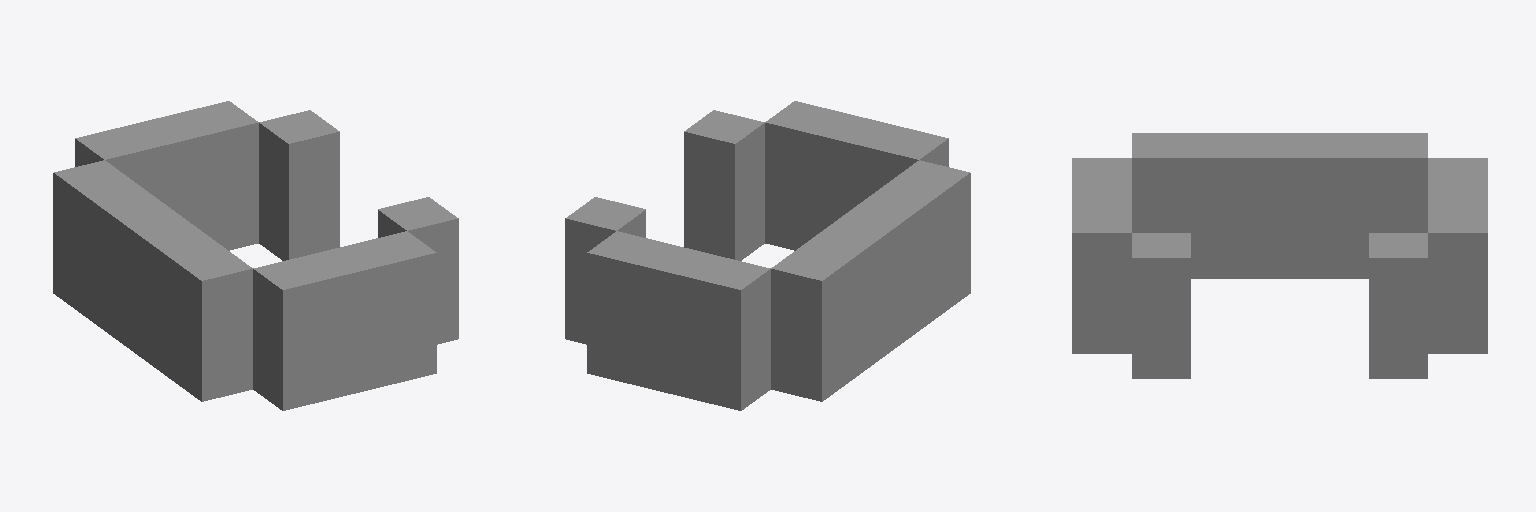
3 renders of one model, left to right at view 1: azimuth 30°, elevation 25°; view 2: azimuth 150°, elevation 25°; view 3: azimuth 270°, elevation 25°, orthographic.
Visible parts, largest first — view 1: C_CUABC.003; view 2: C_CUABC.003; view 3: C_CUABC.003.
Boxes of the visible parts, x1,y1,x2,y2 form: C_CUABC.003: [53, 101, 458, 410]; C_CUABC.003: [565, 101, 970, 410]; C_CUABC.003: [1072, 133, 1487, 378].
Bounding box in the file's own units: 0.5556 × 0.25 × 0.7778.